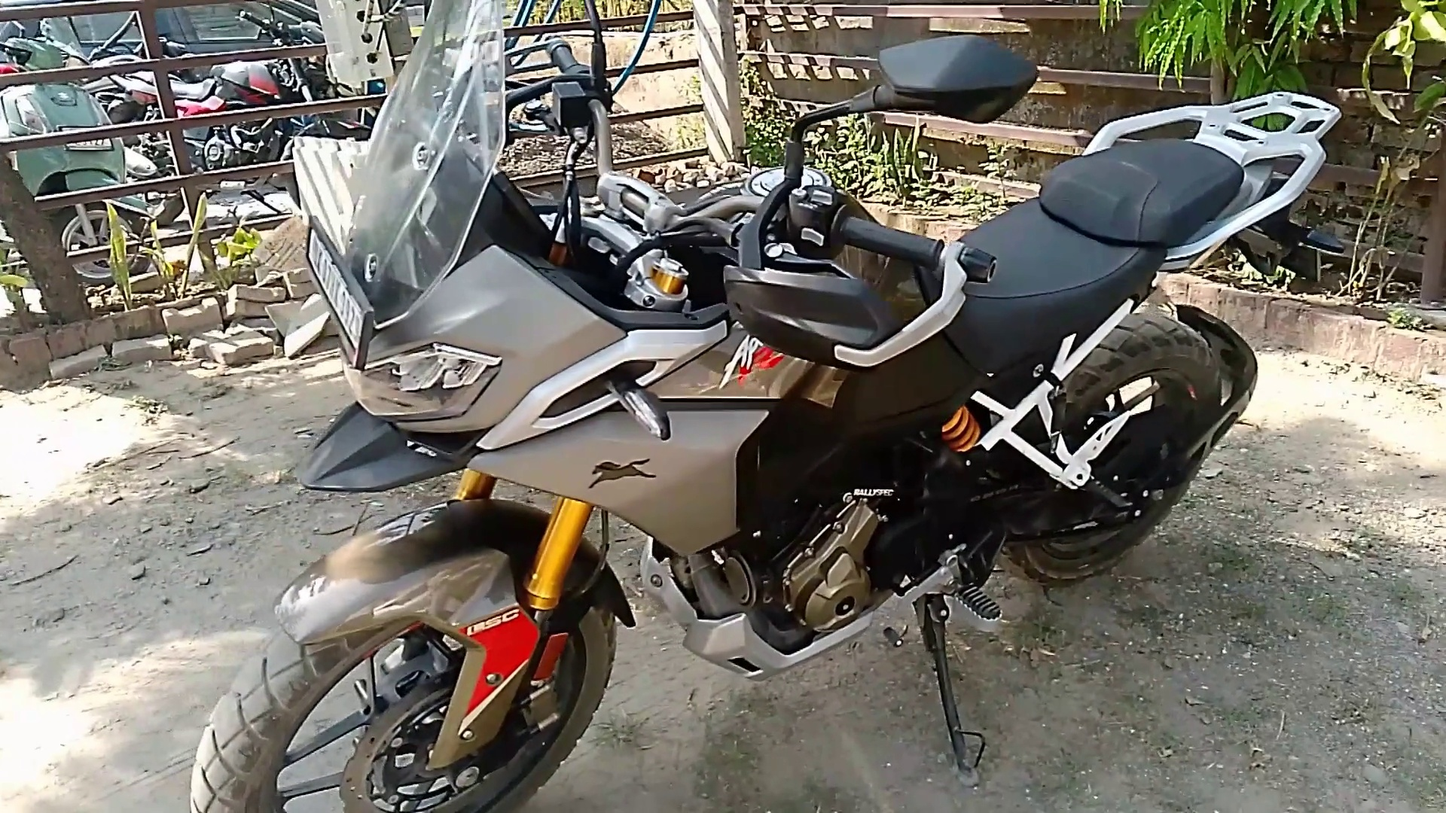engine: (755, 470, 900, 647)
